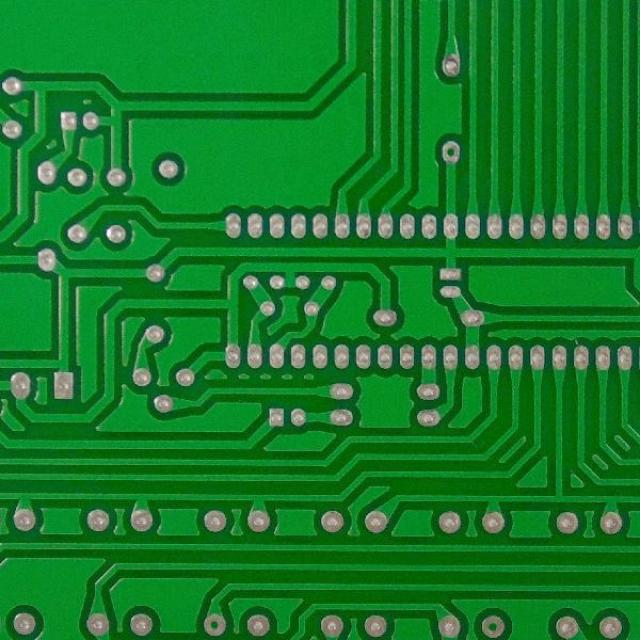Missing_Hole: (200, 613, 230, 637), (479, 614, 507, 639), (440, 140, 461, 163)
